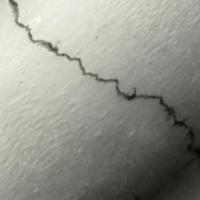crack: (5, 0, 175, 199)
